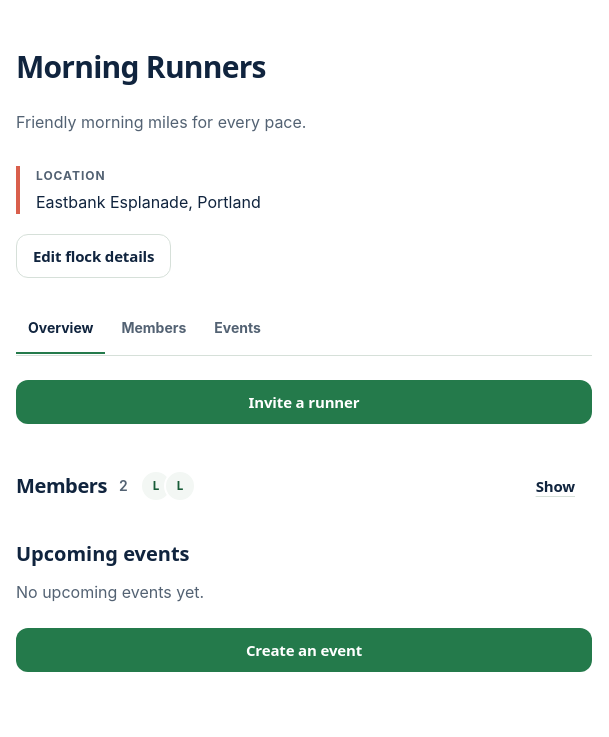
FlockDetailRoute › loads the flock identified by the route and renders its pure page
Check: the heading "Morning Runners" is shown, box [16,46,266,87]
Step 1. Click the button "Show" → (555, 486), box [519,464,592,508]
(page scrolled)
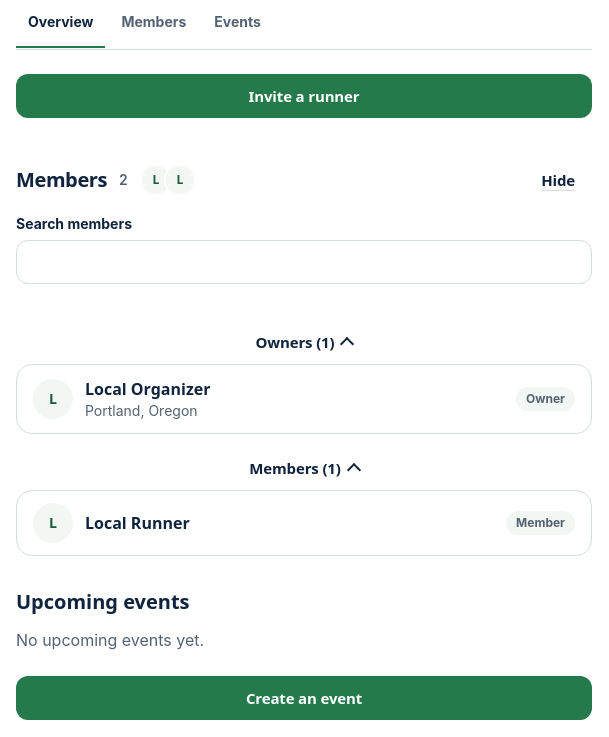
Check: the list named "Flock members" is shown, box [16,320,592,556]
Check: the text "Local Organizer" is shown, box [85,378,210,400]
Check: the text "Local Runner" is shown, box [85,512,190,534]
